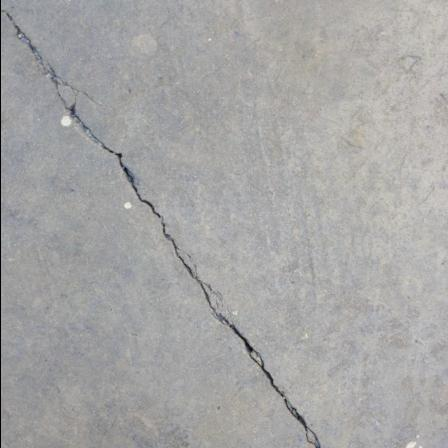crack: (0, 0, 343, 448)
